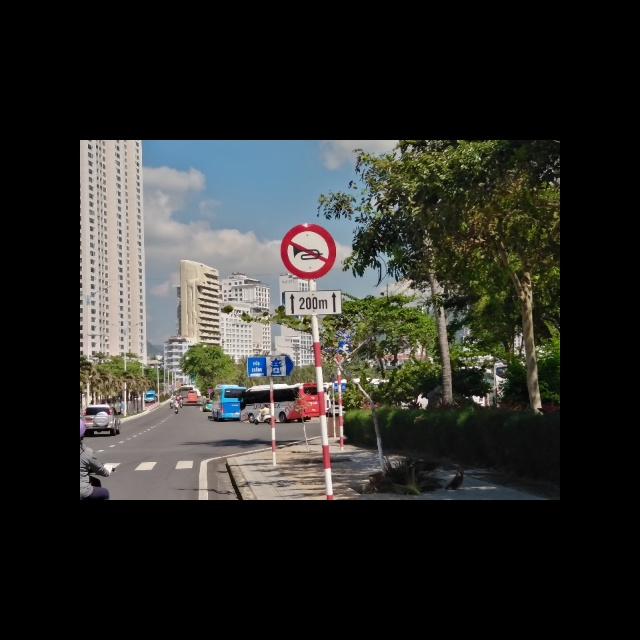Cấm bấm còi: (280, 222, 337, 278)
